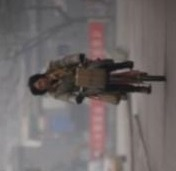person: (27, 54, 166, 104)
